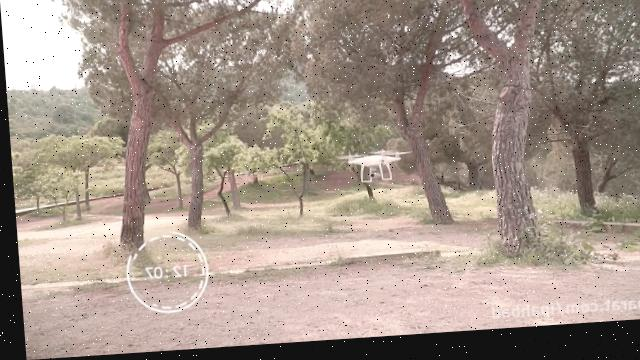drone: (334, 150, 414, 188)
